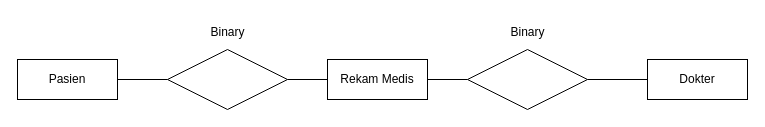
The diagram is 765 pixels wide and 127 high, and some of its shapes have lost their labels. The shapes that lost their labels are listed below. From the top down, each one's centre as x and y in pixels, then its label:
pixel 227 79: Mendapatkan
pixel 527 79: Memberikan
